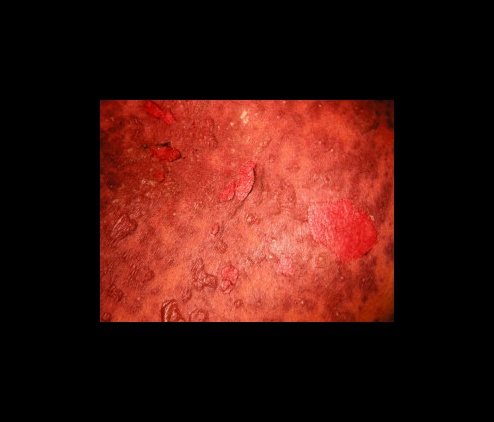SJS-TEN: (94, 96, 399, 324)
